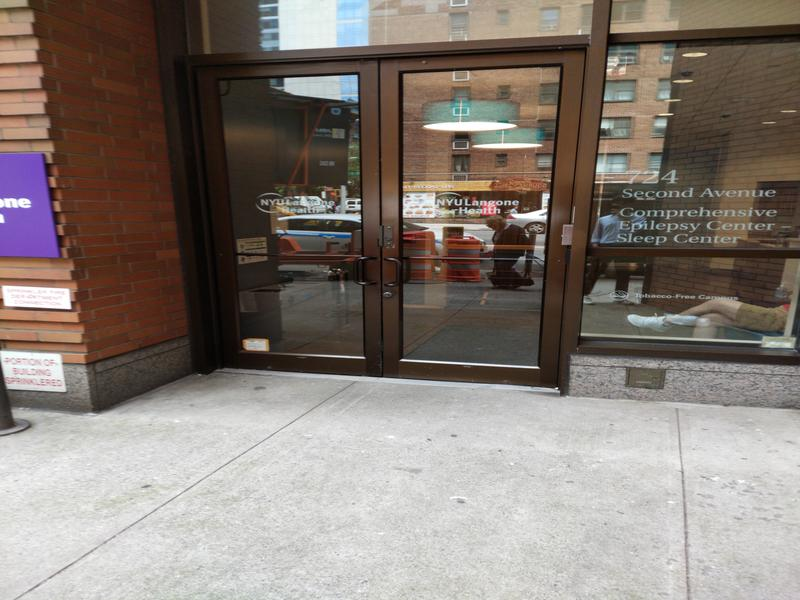double_door: (187, 39, 571, 397)
